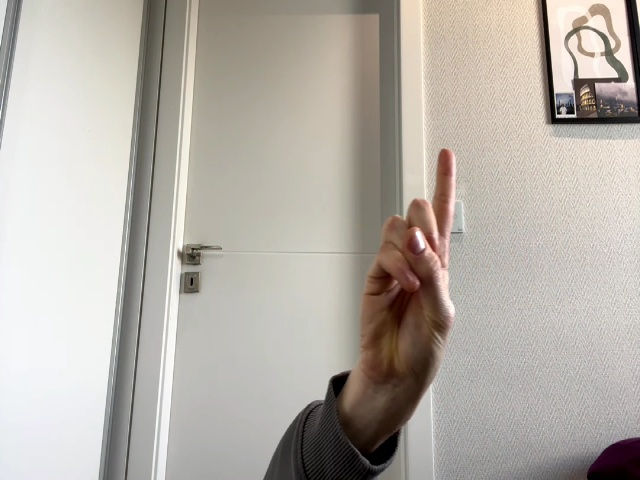Z: (361, 149, 456, 381)
